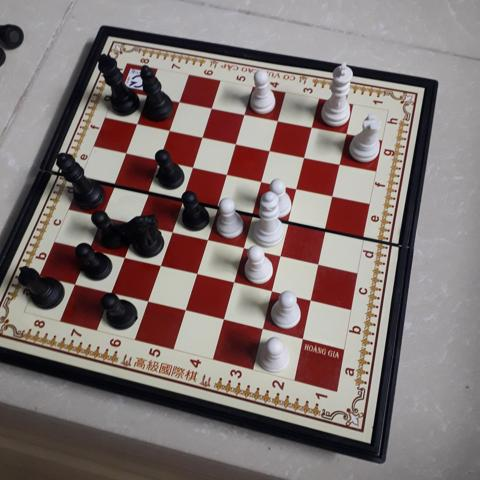xcorner: (105, 287, 119, 301), (118, 251, 132, 265), (154, 259, 168, 273), (228, 276, 242, 290), (108, 177, 122, 191), (142, 184, 156, 198), (153, 153, 167, 167), (187, 160, 201, 174), (256, 174, 270, 188), (131, 117, 145, 131), (142, 89, 156, 103), (142, 296, 156, 309), (218, 314, 232, 327), (257, 323, 270, 337), (83, 243, 96, 257), (305, 294, 319, 307), (96, 209, 109, 223), (238, 241, 252, 254), (275, 249, 289, 262), (313, 257, 327, 270), (284, 214, 297, 228), (292, 181, 305, 195), (265, 143, 278, 157), (174, 95, 187, 109), (207, 101, 220, 115), (307, 120, 320, 134), (341, 127, 355, 140), (69, 279, 82, 292), (180, 305, 193, 318), (297, 333, 310, 346), (191, 268, 204, 281), (267, 285, 280, 298), (131, 217, 144, 230), (166, 225, 179, 238), (202, 233, 215, 246), (177, 192, 190, 205), (212, 199, 225, 212), (248, 207, 261, 220), (321, 222, 334, 235), (120, 147, 133, 160), (222, 167, 235, 180), (328, 189, 341, 202), (164, 124, 177, 137), (197, 130, 210, 143), (231, 137, 244, 150), (300, 150, 313, 163), (335, 157, 348, 170), (240, 108, 253, 121), (273, 114, 286, 127)
